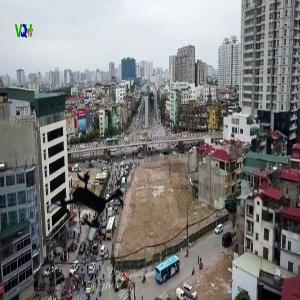drone: (47, 167, 131, 251)
